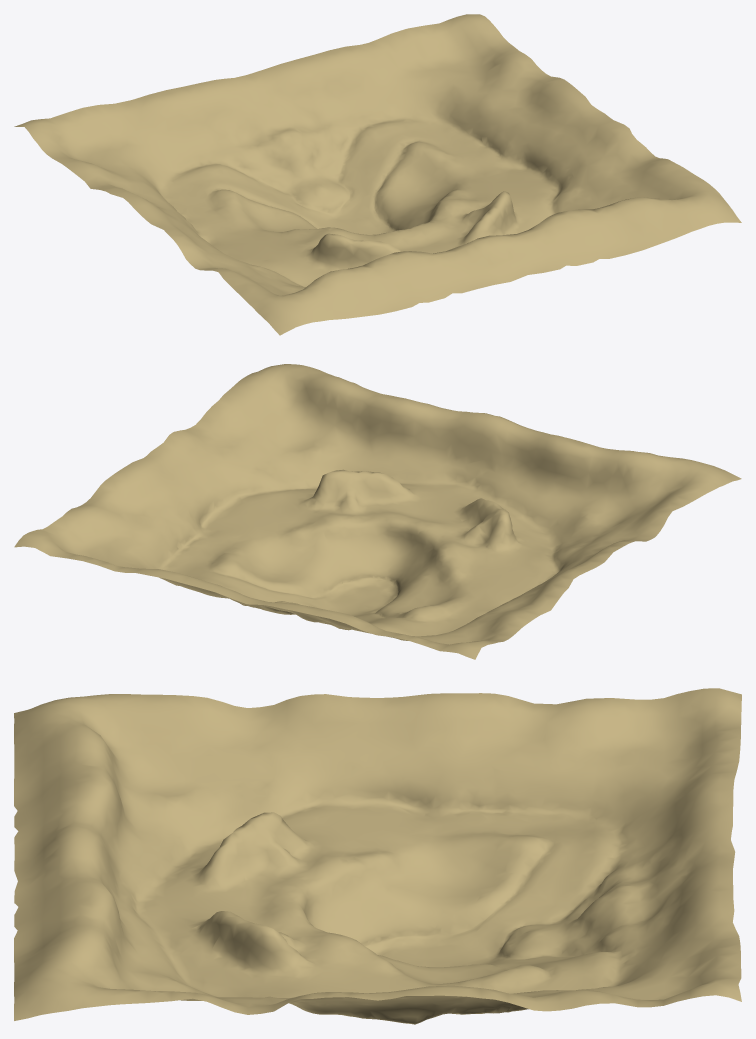
The model's file is terrain.obj.
3 renders of one model, top to bottom at view 1: azimuth 30°, elevation 25°; view 2: azimuth 150°, elevation 25°; view 3: azimuth 270°, elevation 25°, orthographic. The views are drawn at different scales.
Parts seen in each view (by area): view 1: Map_1_Terrain_Map_1_Terrain_vertex; view 2: Map_1_Terrain_Map_1_Terrain_vertex; view 3: Map_1_Terrain_Map_1_Terrain_vertex.
Part boxes in pixels (x1,y1,x2,y2): Map_1_Terrain_Map_1_Terrain_vertex: (14, 14, 741, 335); Map_1_Terrain_Map_1_Terrain_vertex: (14, 364, 741, 659); Map_1_Terrain_Map_1_Terrain_vertex: (14, 688, 741, 1024).
Size of the model in its own units: 16.2 by 3.1 by 16.
